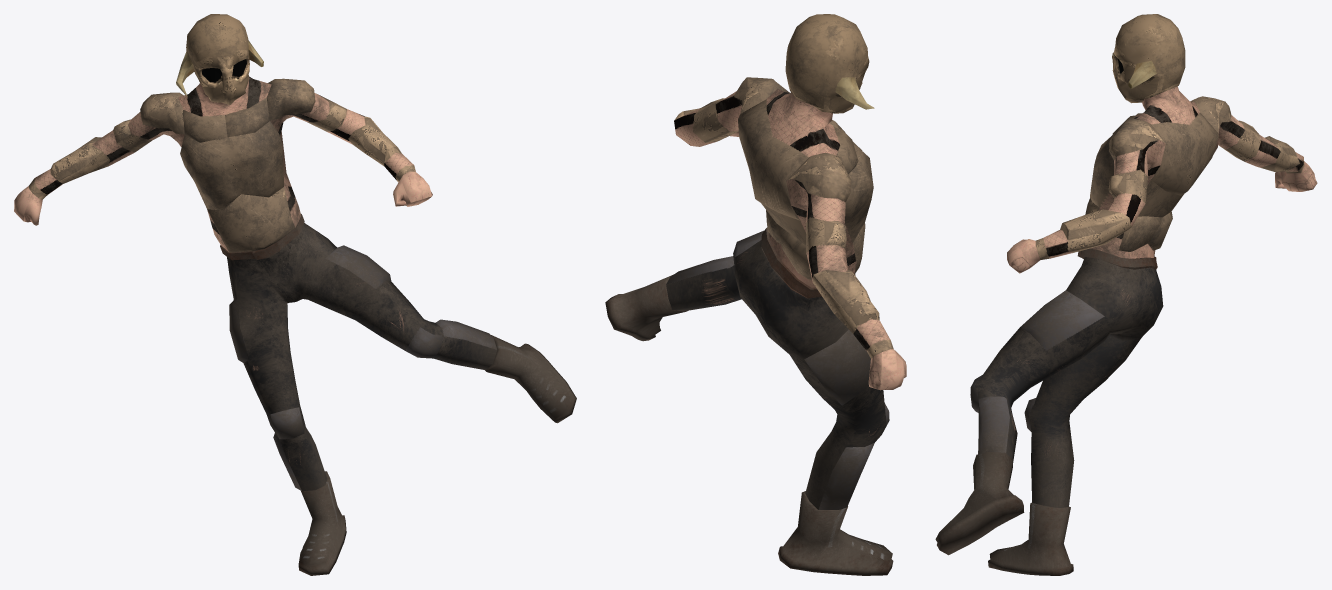
Rendered from Anim_ataque_f3_npc1.0028.obj.
The picture shows the model from 3 angles, left to right: view 1: azimuth 30°, elevation 25°; view 2: azimuth 150°, elevation 25°; view 3: azimuth 270°, elevation 25°; orthographic projection. The views are drawn at different scales.
Visible parts, largest first — view 1: NPC2; view 2: NPC2; view 3: NPC2.
Boxes of the visible parts, x1,y1,x2,y2 form: NPC2: (14, 14, 576, 575); NPC2: (605, 14, 906, 575); NPC2: (935, 14, 1317, 575).
Bounding box in the file's own units: 7.45 × 9.29 × 6.01.
